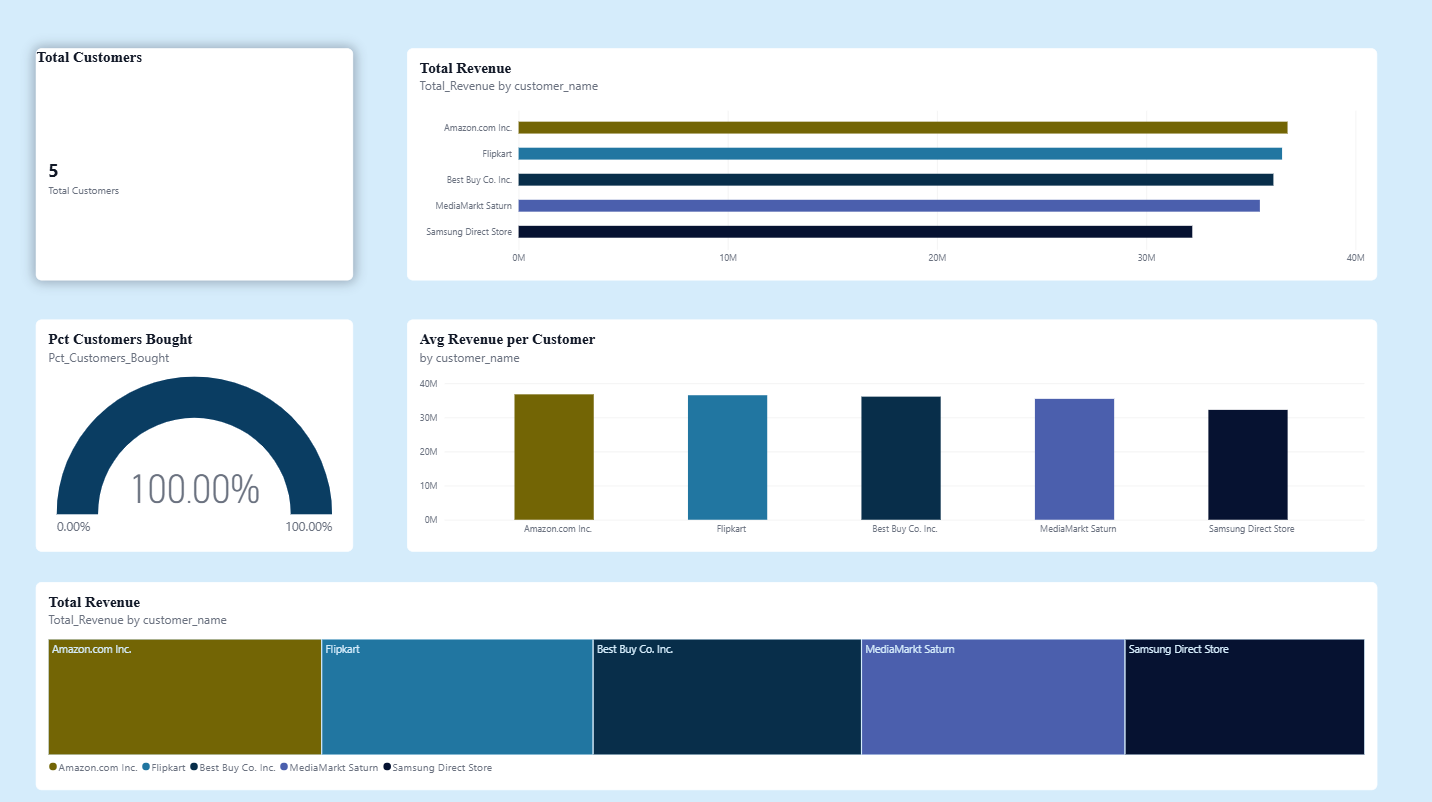

What the dashboard file says about the page in this screenshot:
{"tool":"powerbi","page":{"name":"Customer","canvas":[1920,1080],"ordinal":4},"visuals":[{"type":"cardVisual","title":"Total Customers","fields":{"Data":["Measure.Total Customers"]},"box":[51.5,68.1,423.3,309.2],"z":0},{"type":"barChart","title":"Total Revenue","fields":{"Category":["dim_customer.customer_name"],"Y":["Measure.Total_Revenue"]},"box":[546.6,68.1,1293.9,309.2],"z":1000},{"type":"gauge","title":"Pct Customers Bought","fields":{"Y":["Measure.Pct_Customers_Bought"]},"box":[51.5,430.7,423.3,309.2],"z":1001},{"type":"columnChart","fields":{"Category":["dim_customer.customer_name"],"Y":["Measure.Avg Revenue per Customer"]},"box":[546.6,430.7,1293.9,309.2],"z":1002},{"type":"treemap","title":"Total Revenue","fields":{"Group":["dim_customer.customer_name"],"Values":["Measure.Total_Revenue"]},"box":[51.5,780.4,1789,277.9],"z":1003}]}

Visuals, with their boxes in screenshot pixels (x1, y1, x2, y2), scaled from the page's 1920x1080 canvas onto the 1432x802 screenshot:
"Total Customers" cardVisual: crop(38, 51, 354, 280)
"Total Revenue" barChart: crop(408, 51, 1373, 280)
"Pct Customers Bought" gauge: crop(38, 320, 354, 549)
columnChart - dim_customer.customer_name x Measure.Avg Revenue per Customer: crop(408, 320, 1373, 549)
"Total Revenue" treemap: crop(38, 580, 1373, 786)
